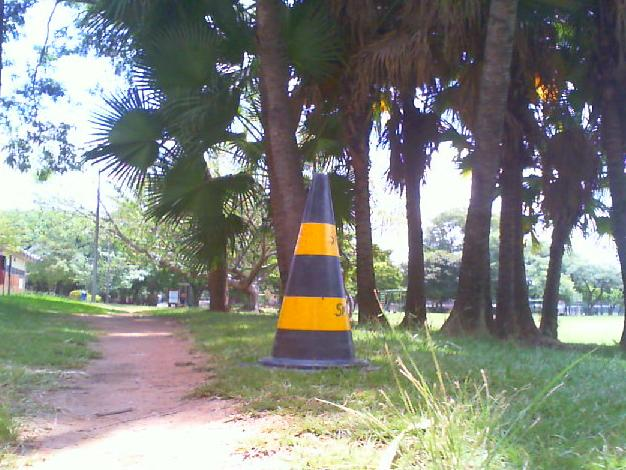0 cone: (237, 173, 381, 372)
